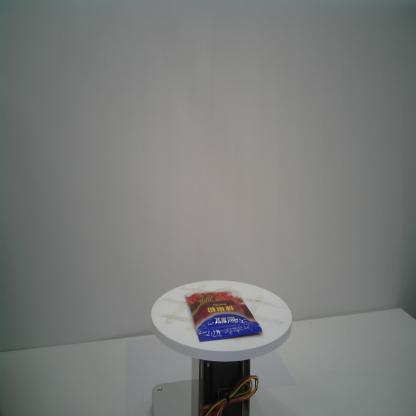Seasoner: (184, 290, 263, 343)
